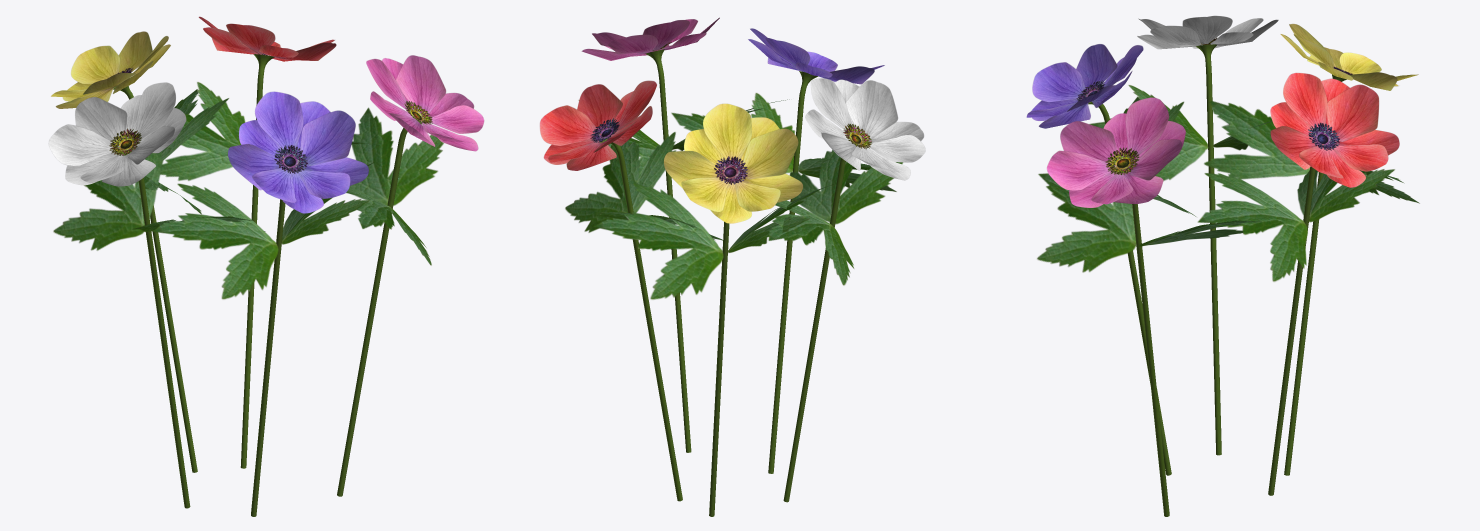
Rendered from anemone_flower_low_poly.glb.
3 views of the same model, side by side, from view 1: azimuth 30°, elevation 25°; view 2: azimuth 150°, elevation 25°; view 3: azimuth 270°, elevation 25° (orthographic). The views are drawn at different scales.
Parts seen in each view (by area): view 1: Cylinder, Cylinder.004, Cylinder.001, Cylinder.002, Cylinder.003; view 2: Cylinder.003, Cylinder.004, Cylinder.002, Cylinder, Cylinder.001; view 3: Cylinder.002, Cylinder.001, Cylinder.003, Cylinder.004, Cylinder.
Part boxes in pixels (x1,y1,x2,y2): Cylinder: (152,91,374,516); Cylinder.004: (48,82,265,508); Cylinder.001: (337,55,484,496); Cylinder.002: (160,16,379,468); Cylinder.003: (51,31,228,472); Cylinder.003: (593,103,835,516); Cylinder.004: (768,78,925,502); Cylinder.002: (540,80,722,501); Cylinder: (671,28,896,473); Cylinder.001: (578,17,789,452); Cylinder.002: (1198,73,1399,495); Cylinder.001: (1037,97,1261,516); Cylinder.003: (1204,24,1419,475); Cylinder.004: (1090,15,1278,455); Cylinder: (1026,44,1195,475).
Size of the model in its own units: 15.63 by 16.52 by 16.73.
Materials: 2 (2 with a texture image).
